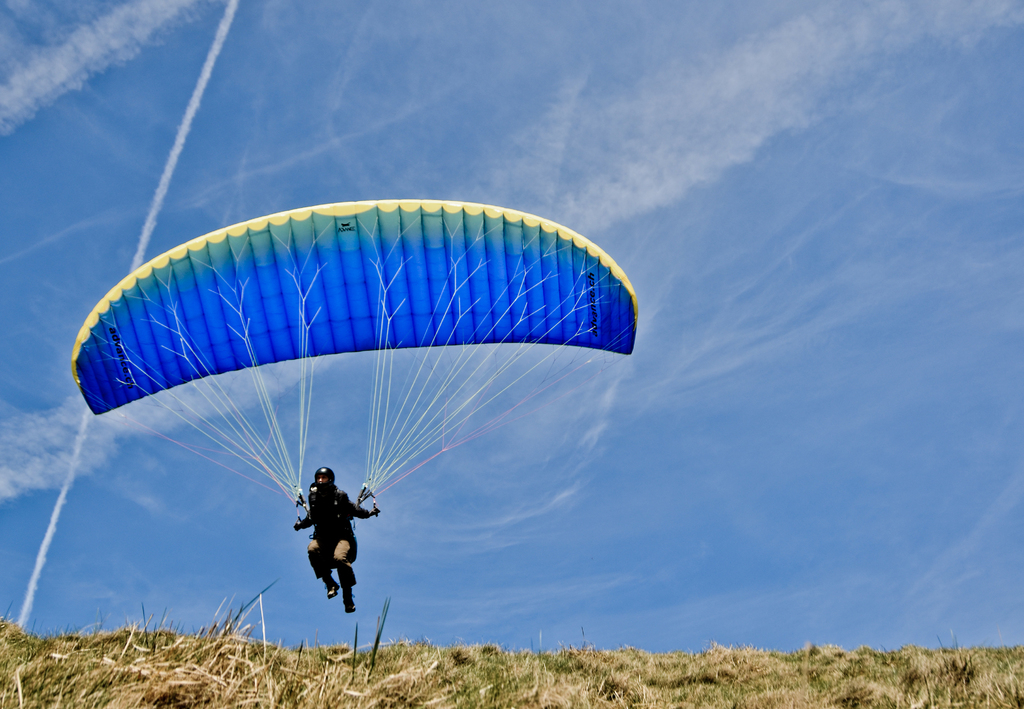person: (290, 465, 381, 612)
